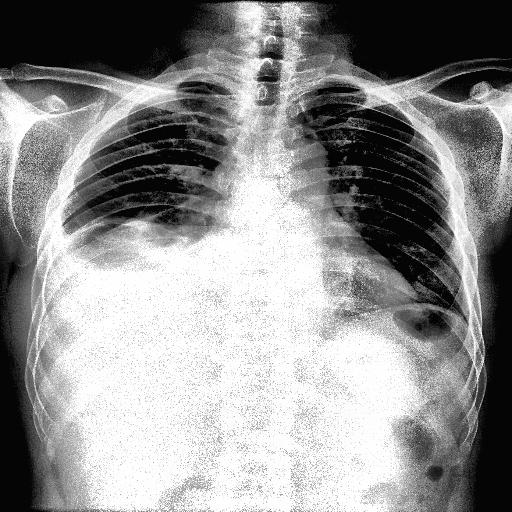0- Aortic enlargement: (268, 135, 331, 188)
10- Pleural effusion: (49, 210, 209, 330), (44, 218, 220, 318), (44, 214, 220, 310)
13- Pulmonary fibrosis: (71, 217, 185, 262), (122, 194, 200, 227)
3- Cardiomegaly: (165, 248, 424, 321), (178, 238, 418, 314)
7- Lung Opacity: (70, 214, 196, 274), (62, 222, 192, 272), (71, 217, 185, 262)
